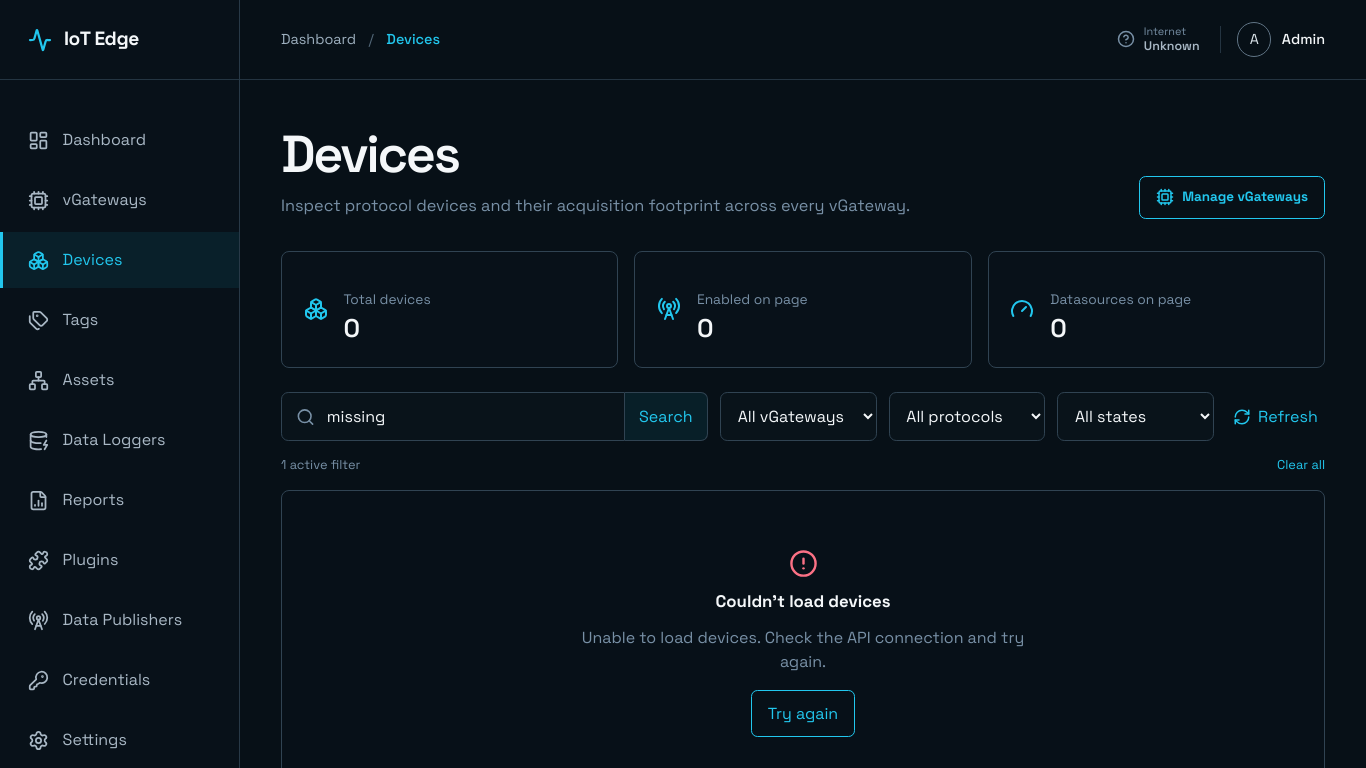
Scenario: DeviceListPage › shows failures, retries, and distinguishes filtered empty results
Check: the message that starts with "Couldn’t load devices" shows "Unable to load devices", box [582,627,1024,672]
Click the button "Try again".
click(803, 714)  # box [751,690,855,737]
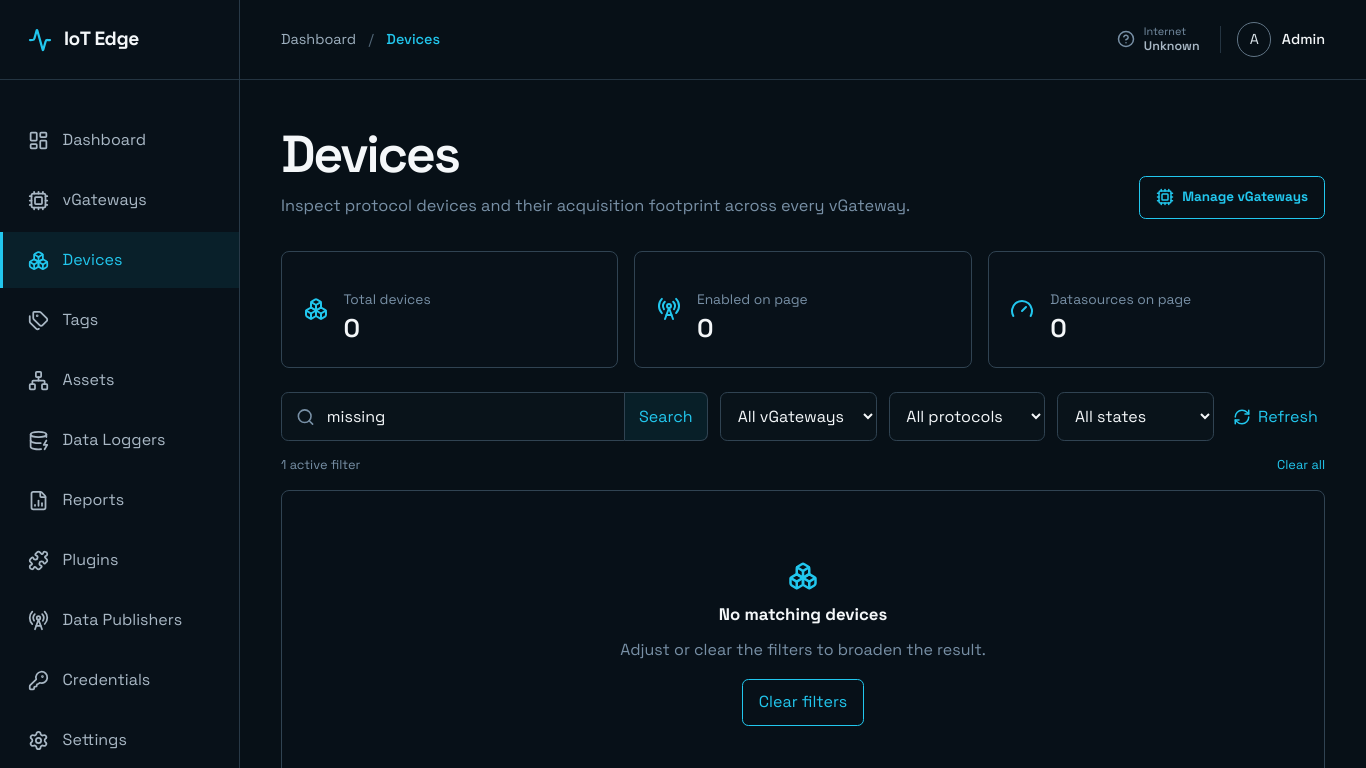
Check: the text "No matching devices" is shown, box [719,602,887,627]
Click the button "Clear filters".
click(803, 702)  # box [742,679,864,726]
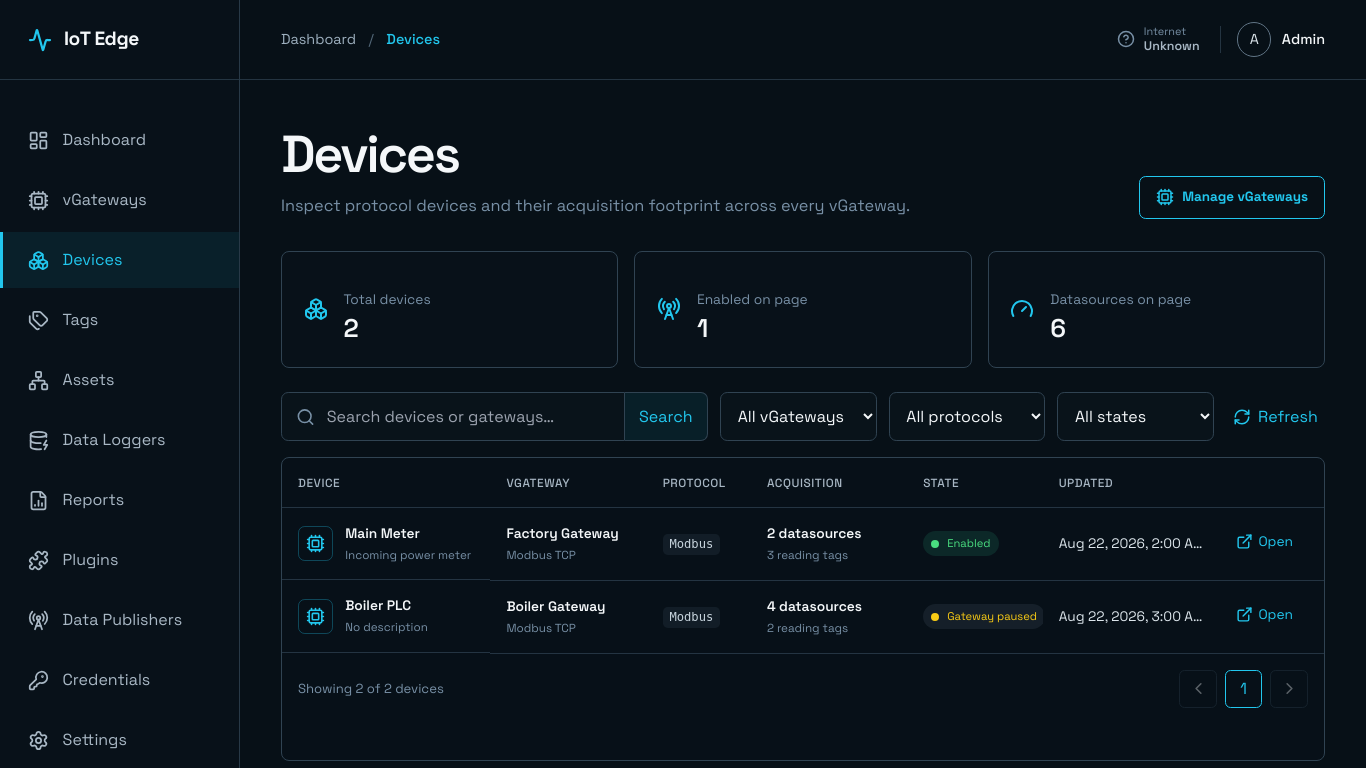
Check: the text "Main Meter" is shown, box [345,524,420,542]
